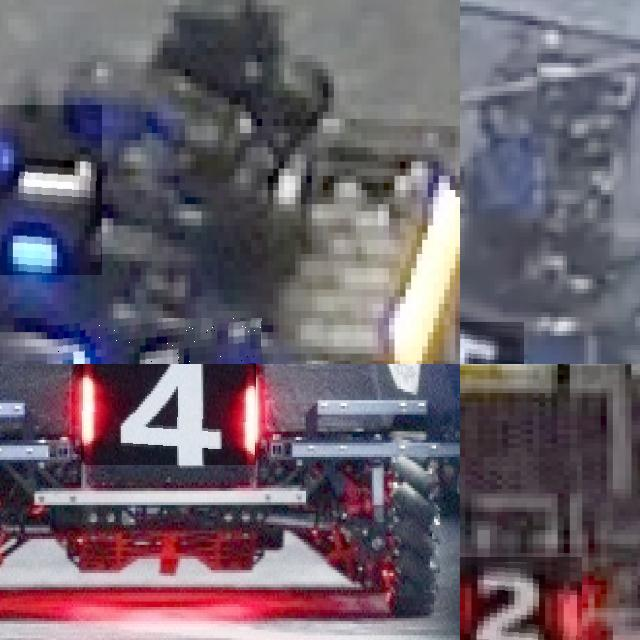B1: (0, 104, 102, 275), (58, 317, 262, 364)
B5: (460, 321, 524, 364)
R2: (460, 557, 582, 640)
R4: (81, 364, 255, 465)
